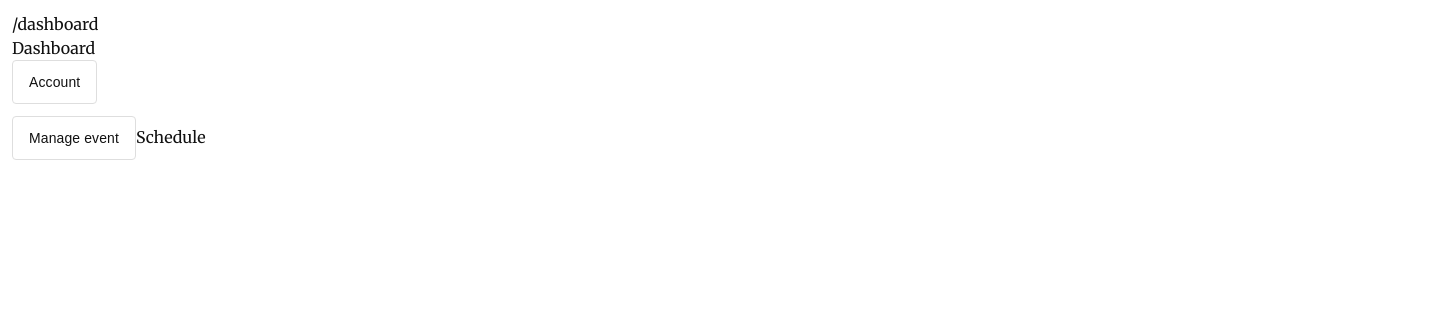
Test: account visibility rules (issue 340) › offers all three views and admin home to a multi-role admin
Step 1. Click the heading "Account" → (55, 82), box x1=12 y1=60 x2=97 y2=104
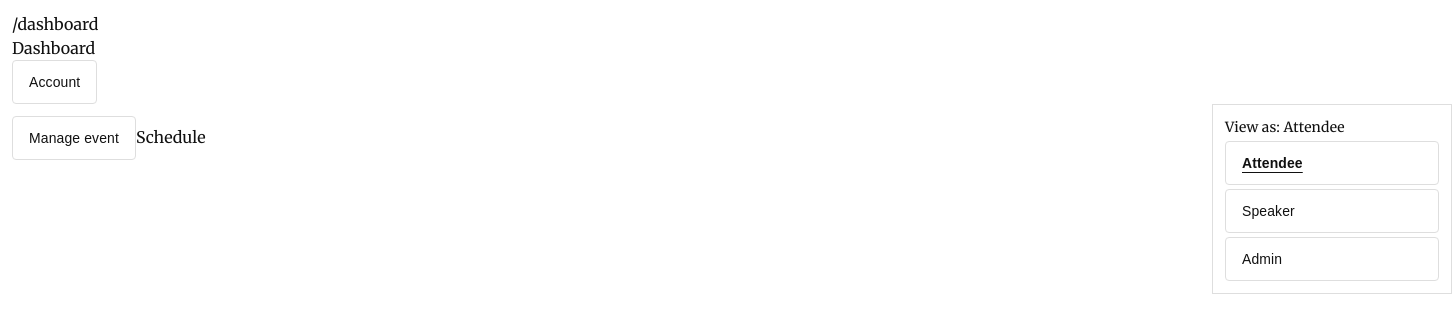
Expected: the links read "Attendee", "Speaker", "Admin", in this order, x1=1225 y1=141 x2=1439 y2=185; x1=1225 y1=189 x2=1439 y2=233; x1=1225 y1=237 x2=1439 y2=281
